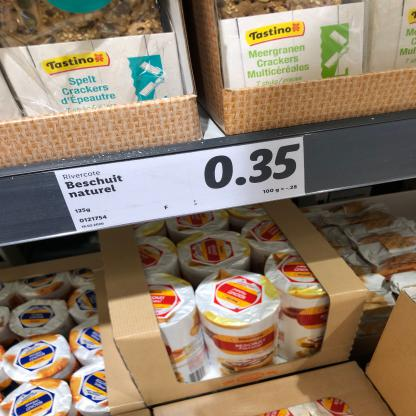prtg: (55, 137, 307, 233)
